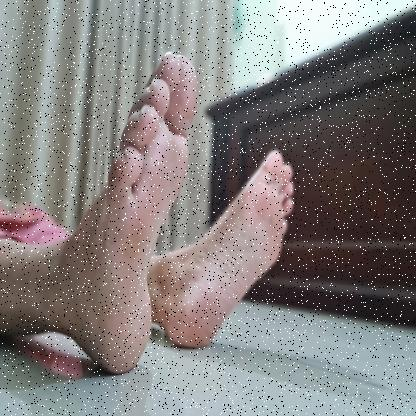leg: (0, 48, 204, 381), (173, 138, 303, 356)
